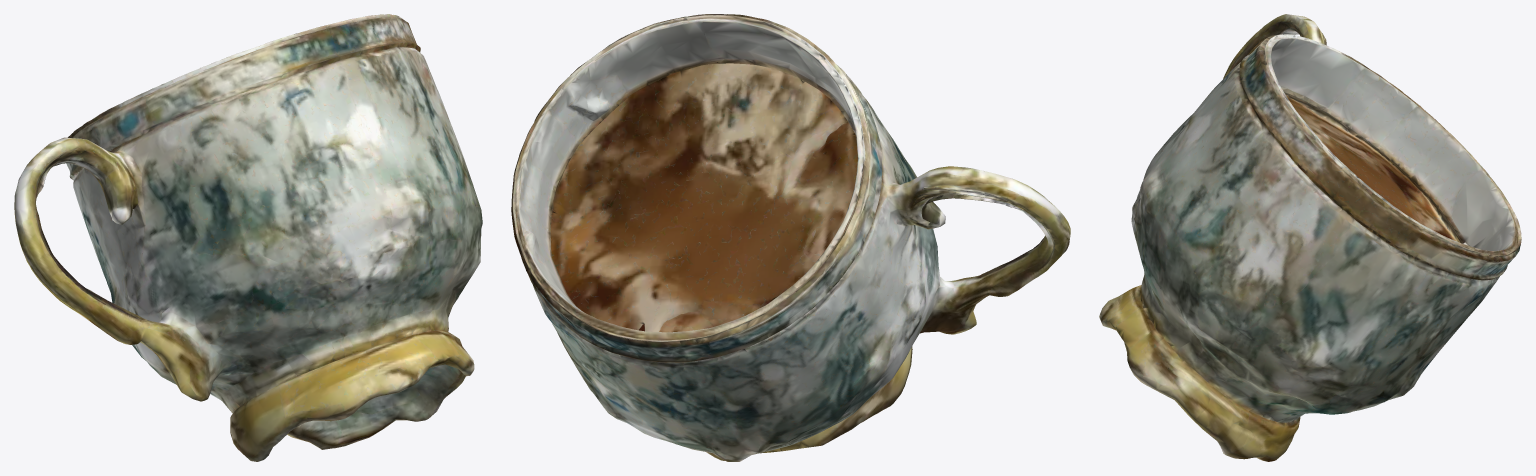
File: pixal3d.glb
The picture shows the model from 3 angles, left to right: view 1: azimuth 30°, elevation 25°; view 2: azimuth 150°, elevation 25°; view 3: azimuth 270°, elevation 25°; orthographic projection. The views are drawn at different scales.
Visible parts, largest first — view 1: geometry_0; view 2: geometry_0; view 3: geometry_0.
Boxes of the visible parts, x1=… form: geometry_0: x1=14, y1=14, x2=482, y2=461; geometry_0: x1=511, y1=14, x2=1070, y2=461; geometry_0: x1=1099, y1=14, x2=1521, y2=461.
Size of the model in its own units: 0.8827 by 0.7892 by 0.7797.
1 material, 1 textured.
